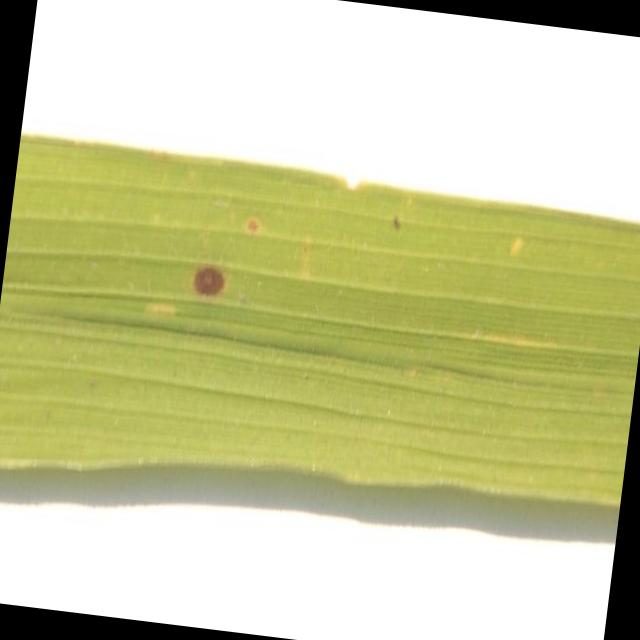Rice_Brownspot: (176, 218, 237, 316)
